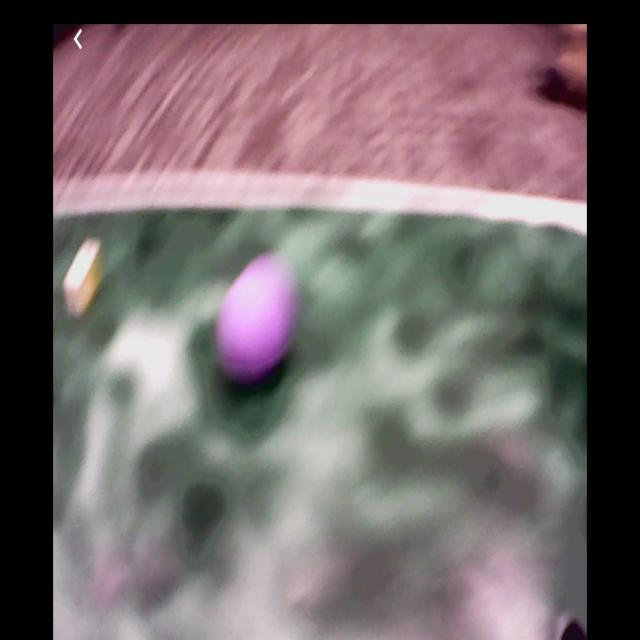ball: (220, 273, 289, 375)
